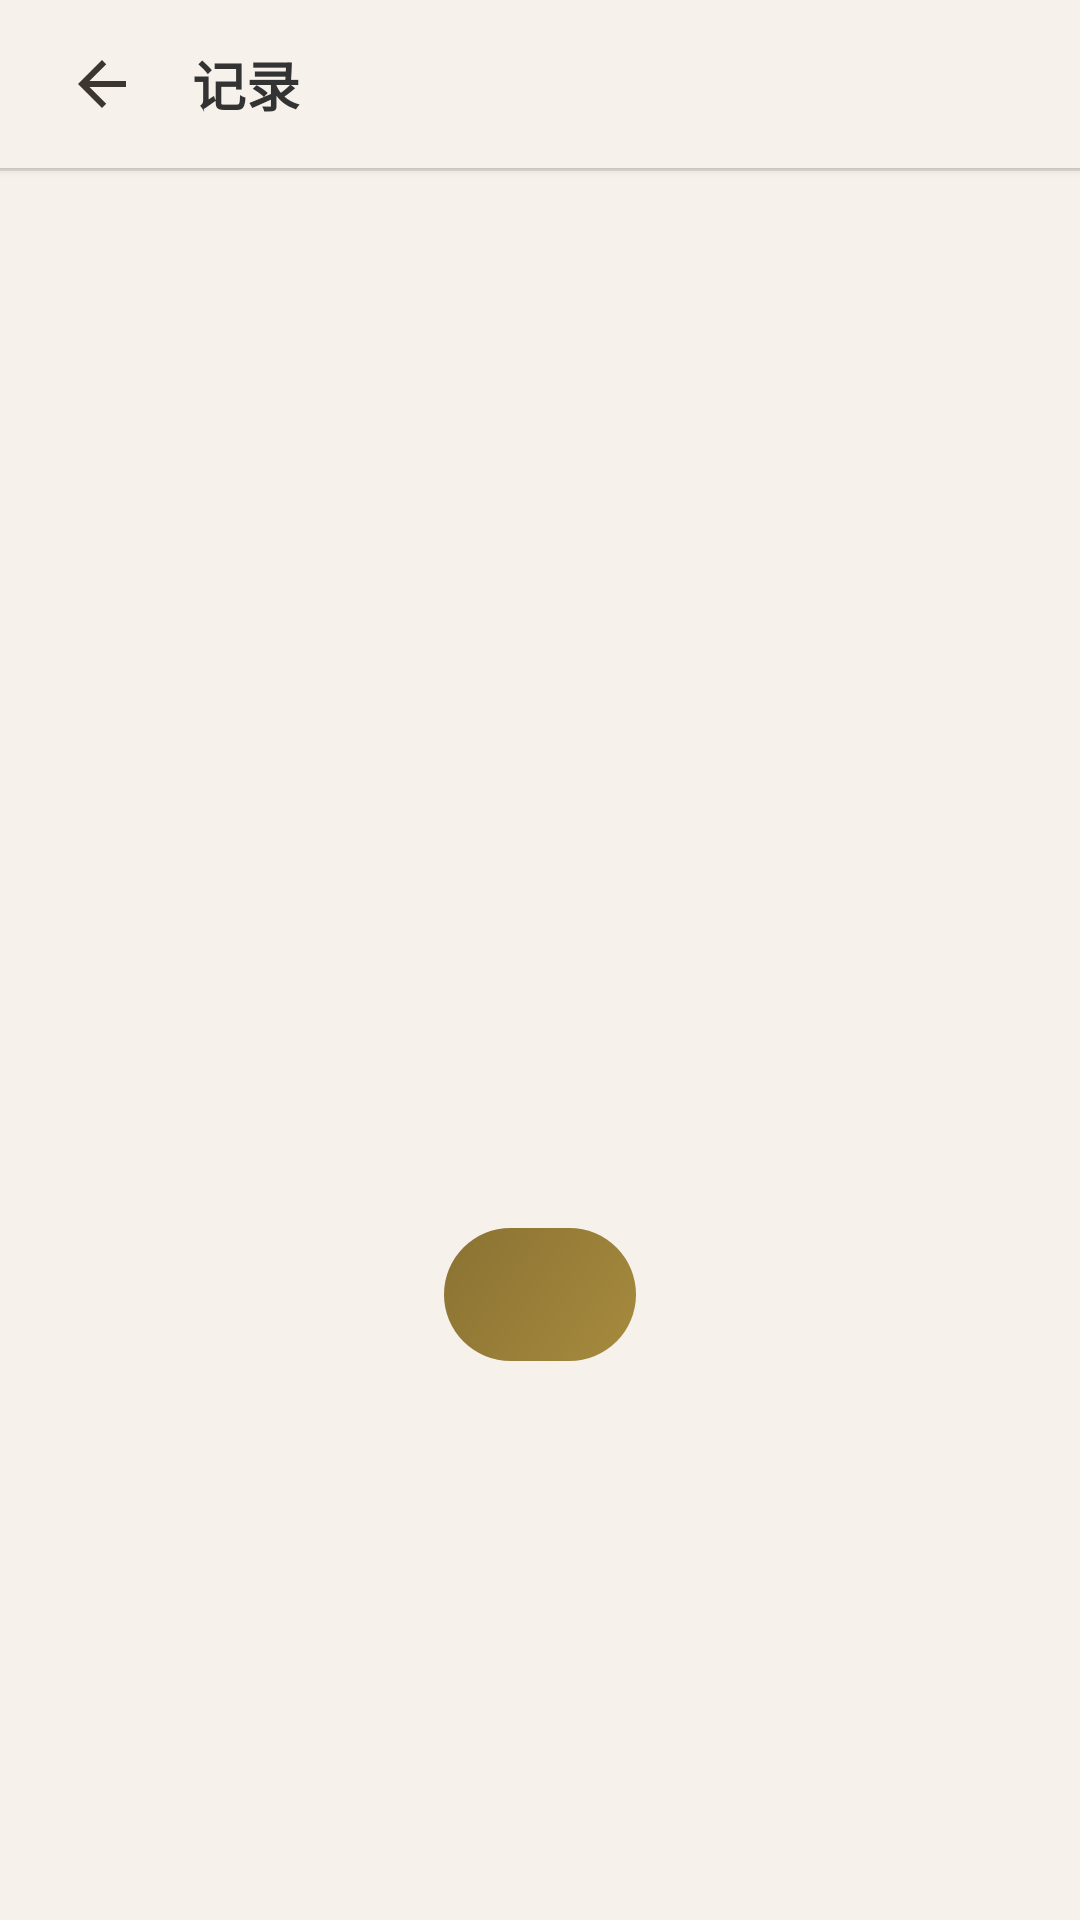

Named icons in this screenshot (1080 × 1920) and their bounding boxes, [left=x1, top=y1, right=x2, bottom=y2]:
返回: [left=78, top=60, right=126, bottom=108]
